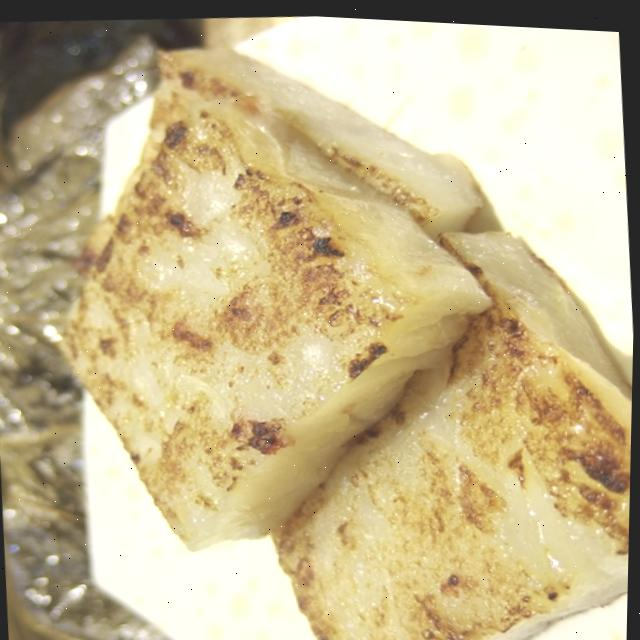蛋糕甜品: (35, 2, 640, 640)
